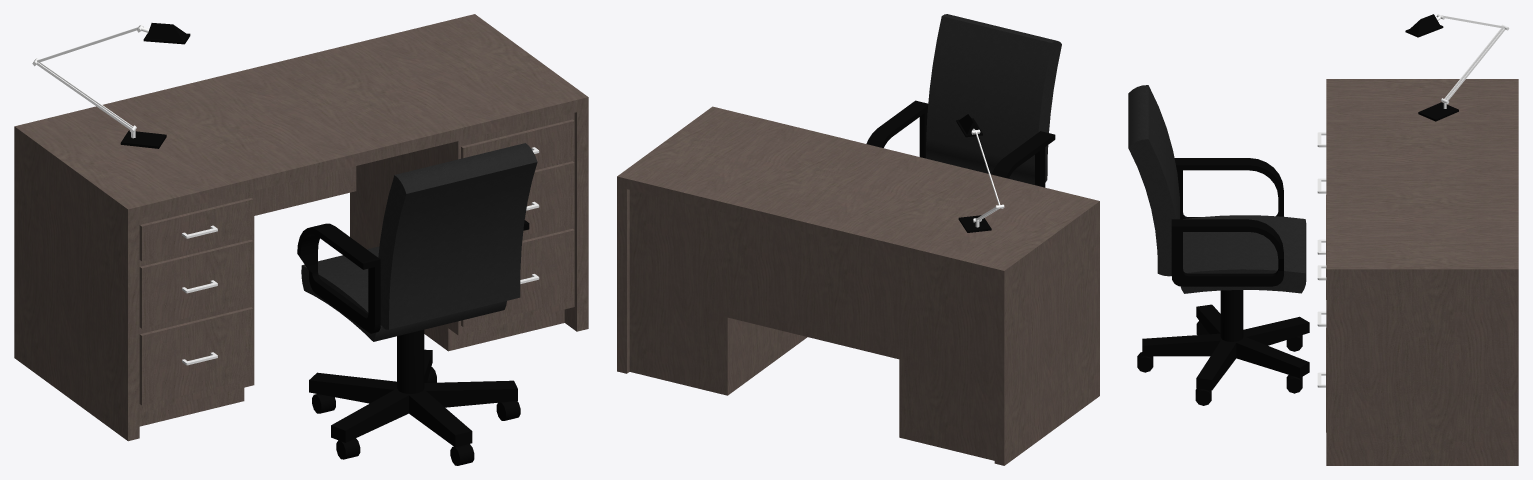
Rendered from desk.glb.
3 views of the same model, side by side, from view 1: azimuth 30°, elevation 25°; view 2: azimuth 150°, elevation 25°; view 3: azimuth 270°, elevation 25° (orthographic). The views are drawn at different scales.
Visible parts, largest first — view 1: furniture and household assets.001; view 2: furniture and household assets.001; view 3: furniture and household assets.001.
Part boxes in pixels (<box>): furniture and household assets.001: <box>14,14,588,465</box>; furniture and household assets.001: <box>617,14,1099,465</box>; furniture and household assets.001: <box>1128,14,1518,465</box>.
Size of the model in its own units: 158 by 115 by 137.
Materials: 4 (3 with a texture image).
